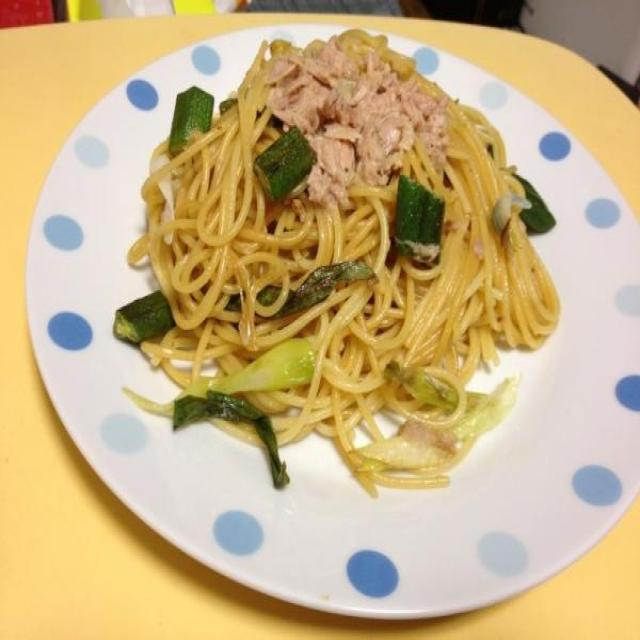面条主食: (8, 22, 640, 611)
